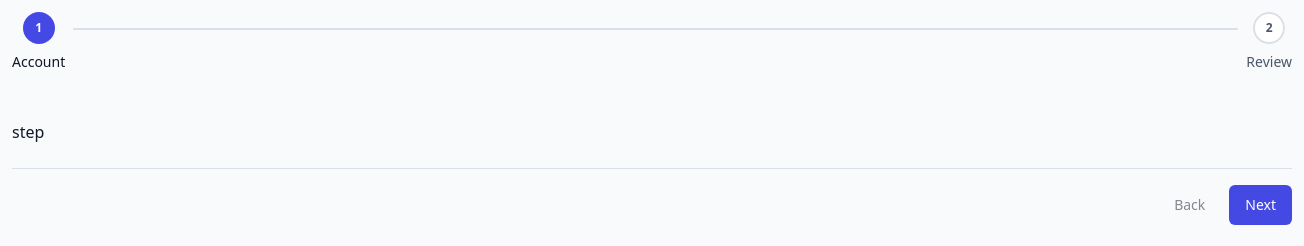
Test: FormWizard — summary step › summaryRender override displays a custom review surface
The width and height of the screenshot is (1304, 246).
Click the button with test id "wizard-next" at (1261, 205), box [1229,185,1292,225]
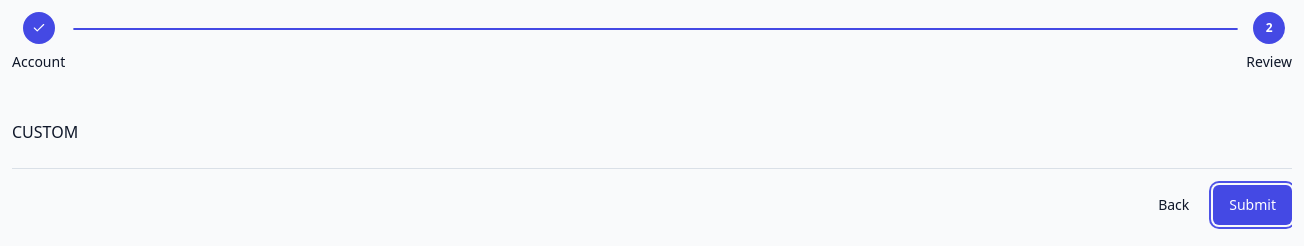
Check: the text "CUSTOM" is shown, box [12,121,78,143]
